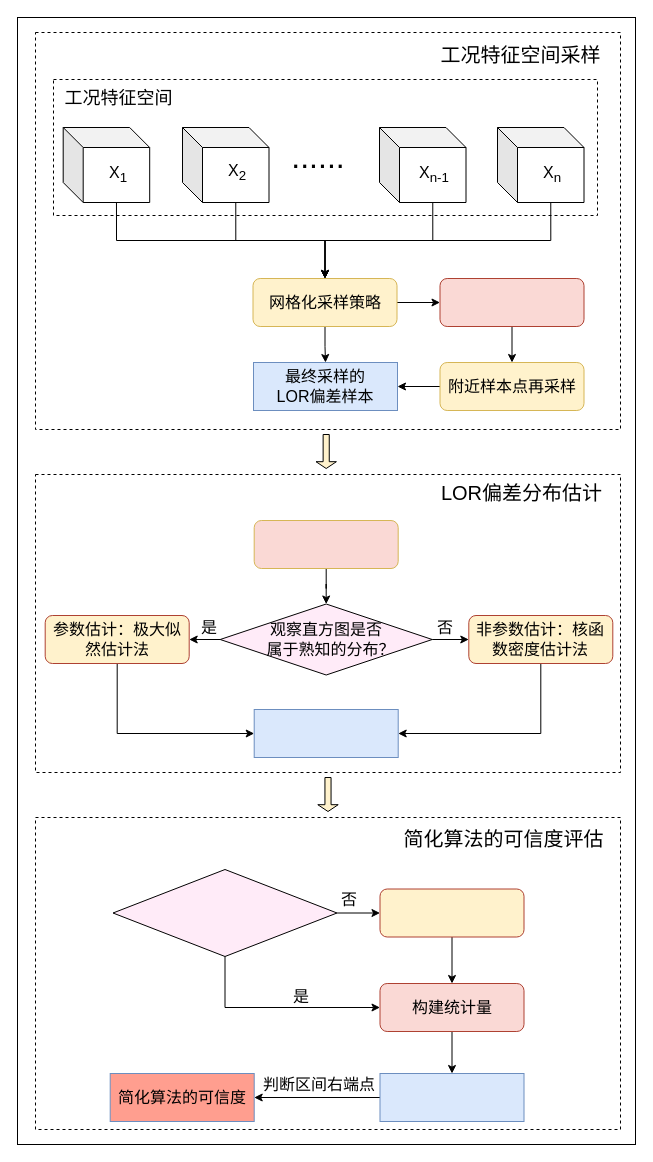
Some shapes in this 653 by 1162 pixel diagram are drawn without their labels. The centre of each missing label's shape, as x and y in pixels:
"LOR偏差分布是否为 参数估计方法得到的？" goes at point 224,912.
"LOR偏差的概率密度函数" goes at point 325,733.
"作LOR 偏差直方图" goes at point 325,544.
"基于LOR偏差 取Top k个样本" goes at point 511,302.
"根据中心极限定理" goes at point 451,912.
"置信度区间" goes at point 451,1097.
